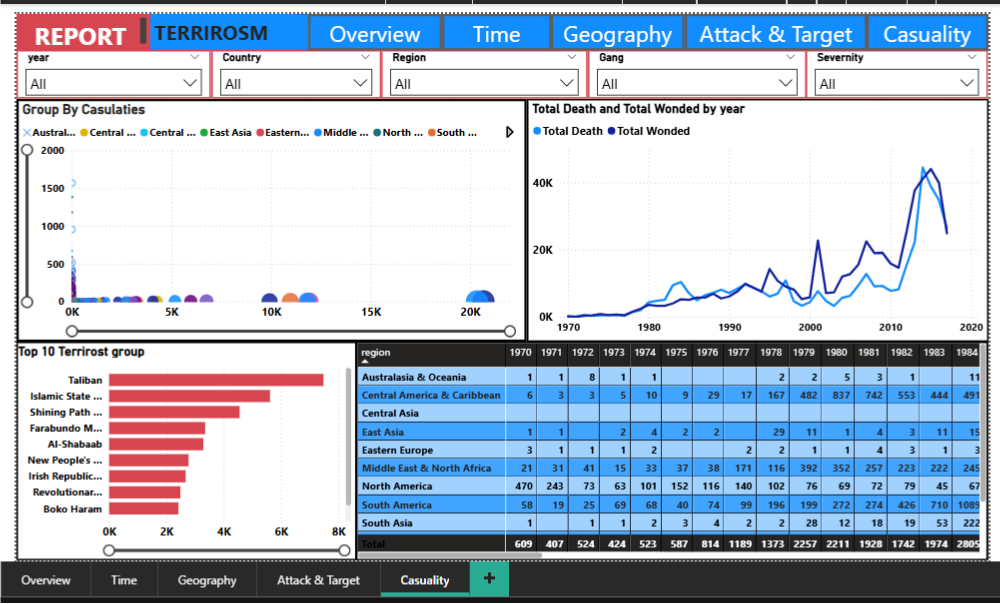

This screenshot's page, from the dashboard's own definition file:
{"tool":"powerbi","page":{"name":"Casuality","canvas":[1280,720],"ordinal":4},"visuals":[{"type":"shape","box":[0,0,1280,48],"z":0},{"type":"textbox","box":[0,0,176,48],"z":1000},{"type":"scatterChart","title":"Group By Casulaties","fields":{"X":["CountNonNull(terror.eventid)"],"Y":["terror.nkill"],"Size":["CountNonNull(terror.nwound)"],"Series":["terror.region_txt"]},"box":[0,112,672,320],"z":2000},{"type":"clusteredBarChart","title":"Top 10 Terrirost group","fields":{"Y":["Count(terror.eventid)"],"Category":["terror.gname"]},"box":[0,432,448,288],"z":3000},{"type":"donutChart","title":"Attack Severnity","fields":{"Category":["terror.Severnity"],"Y":["CountNonNull(terror.Casualities)"]},"box":[880,432,400,288],"z":4000},{"type":"textbox","box":[176,0,192,48],"z":5000},{"type":"lineChart","fields":{"Category":["terror.year"],"Y":["Sum(terror.nkill)","Sum(terror.nwound)"]},"box":[672,112,608,320],"z":6000},{"type":"pivotTable","fields":{"Rows":["terror.region_txt"],"Columns":["terror.year"],"Values":["CountNonNull(terror.nkill)"]},"box":[448,432,832,288],"z":7000},{"type":"slicer","fields":{"Values":["terror.year"]},"box":[0,48,256,64],"z":8000},{"type":"slicer","fields":{"Values":["terror.region_txt"]},"box":[480,48,272,64],"z":9000},{"type":"slicer","fields":{"Values":["terror.country_txt"]},"box":[256,48,224,64],"z":10000},{"type":"slicer","fields":{"Values":["terror.gname"]},"box":[752,48,288,64],"z":11000},{"type":"slicer","fields":{"Values":["terror.Severnity"]},"box":[1040,48,240,64],"z":12000},{"type":"actionButton","box":[1120,0,160,48],"z":13000},{"type":"actionButton","box":[880,0,240,48],"z":14000},{"type":"actionButton","box":[704,0,176,48],"z":15000},{"type":"actionButton","box":[560,0,144,48],"z":16000},{"type":"actionButton","box":[384,0,176,48],"z":17000}]}

Visuals, with their boxes on the page's 1280x720 design canvas (x1, y1, x2, y2). These are canvas units, not pixel positions in the 1001x604 screenshot, which may show the page scaled, cropped or inside an application window:
shape: 0, 0, 1280, 48
textbox: 0, 0, 176, 48
"Group By Casulaties" scatterChart: 0, 112, 672, 432
"Top 10 Terrirost group" clusteredBarChart: 0, 432, 448, 720
"Attack Severnity" donutChart: 880, 432, 1280, 720
textbox: 176, 0, 368, 48
lineChart - terror.year x Sum(terror.nkill): 672, 112, 1280, 432
pivotTable - terror.region_txt x terror.year: 448, 432, 1280, 720
slicer - terror.year: 0, 48, 256, 112
slicer - terror.region_txt: 480, 48, 752, 112
slicer - terror.country_txt: 256, 48, 480, 112
slicer - terror.gname: 752, 48, 1040, 112
slicer - terror.Severnity: 1040, 48, 1280, 112
actionButton: 1120, 0, 1280, 48
actionButton: 880, 0, 1120, 48
actionButton: 704, 0, 880, 48
actionButton: 560, 0, 704, 48
actionButton: 384, 0, 560, 48
